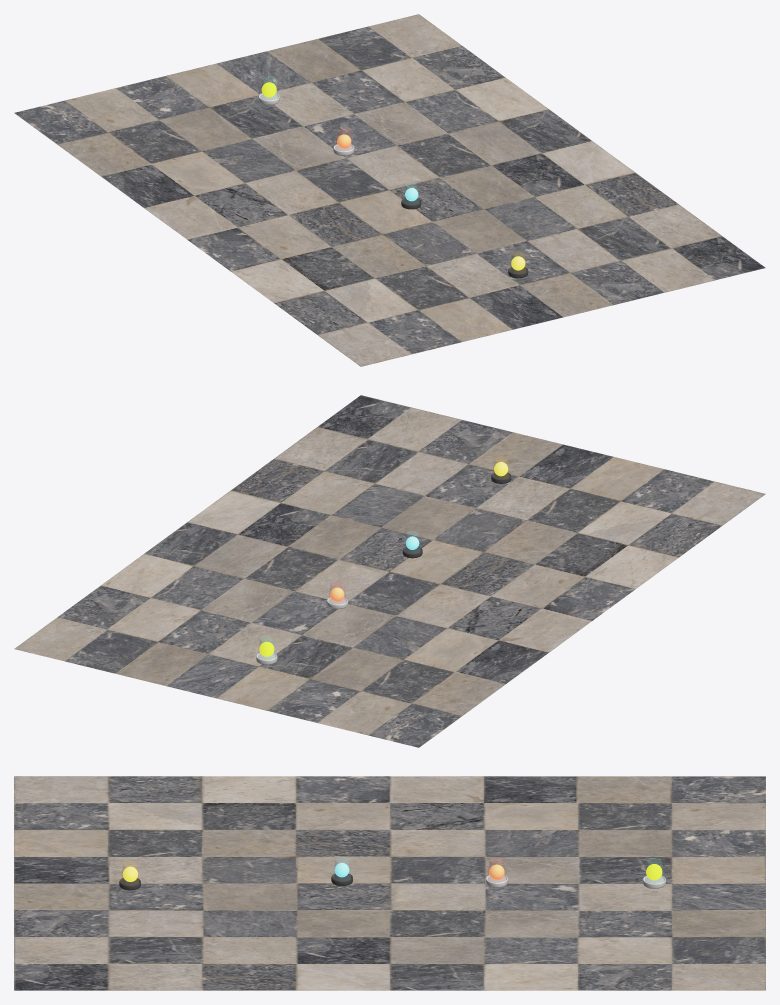
File: light_prebu.glb
3 renders of one model, top to bottom at view 1: azimuth 30°, elevation 25°; view 2: azimuth 150°, elevation 25°; view 3: azimuth 270°, elevation 25°, orthographic. The views are drawn at different scales.
Parts seen in each view (by area): view 1: Plane1; view 2: Plane1; view 3: Plane1, midori_StaticMeshComponent0, LIGHT_AKA_red_aka_StaticMeshComponent0.
Part boxes in pixels (bbox=[...]): Plane1: bbox=[14, 14, 765, 366]; Plane1: bbox=[14, 395, 765, 747]; Plane1: bbox=[14, 776, 765, 990]; midori_StaticMeshComponent0: bbox=[645, 858, 663, 882]; LIGHT_AKA_red_aka_StaticMeshComponent0: bbox=[488, 857, 505, 882].
Size of the model in its own units: 22.75 by 1.26 by 33.75.
Materials: 11 (1 with a texture image).
